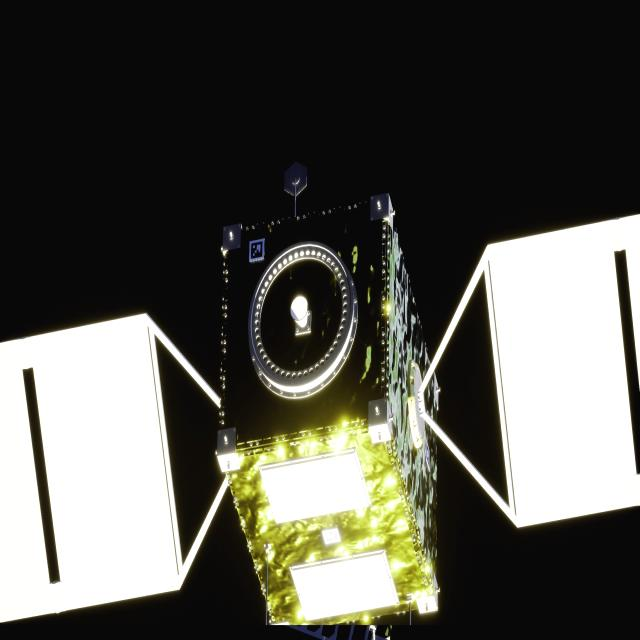medium_debris: (0, 194, 640, 628)
